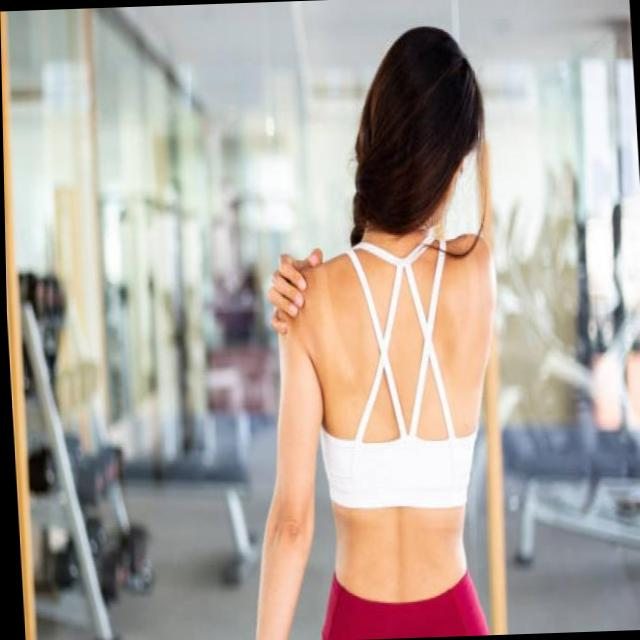no helmet: (317, 15, 481, 262)
